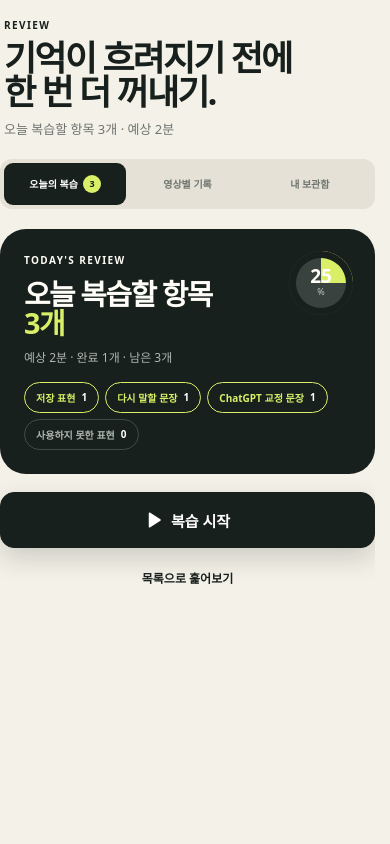
Scenario: Editing a saved item › keeps the editor open and reports the error when saving fails
The width and height of the screenshot is (390, 844).
expect the button "복습 시작" is shown: met, box [0, 492, 375, 548]
Click the tab "내 보관함": (310, 184) [249, 163, 371, 205]
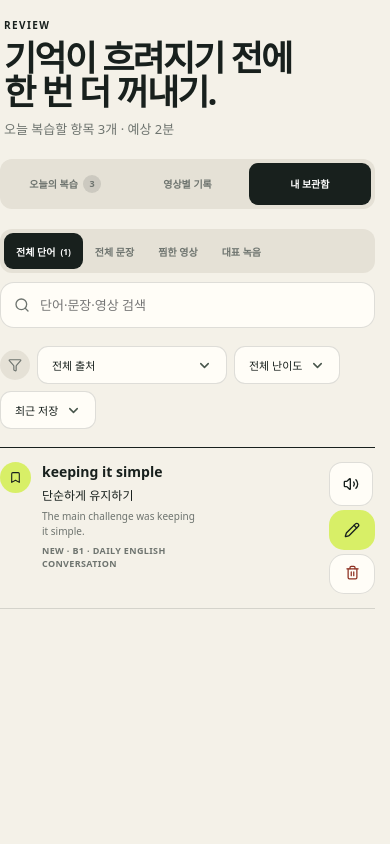
Click the button named "keeping it simple 수정": (352, 530) [329, 510, 375, 550]
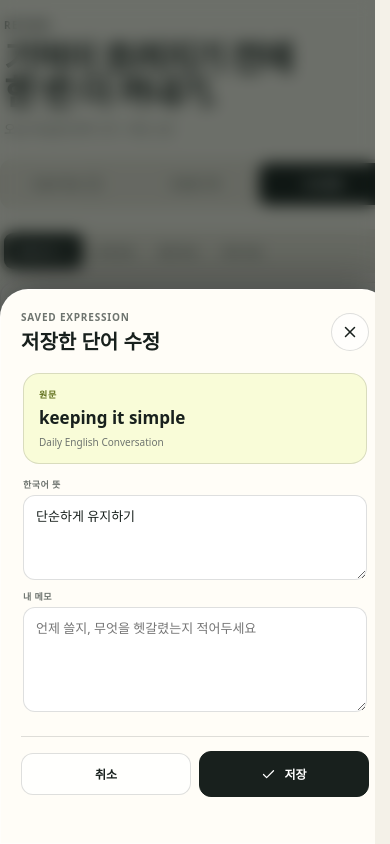
Click the button "저장": (284, 774) [199, 751, 369, 797]
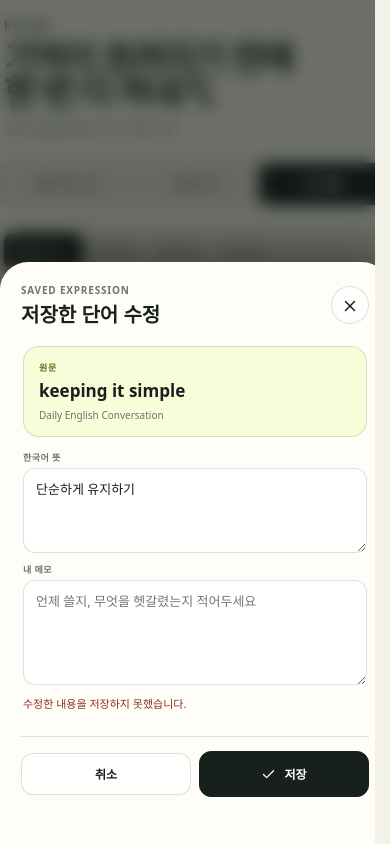
expect the text box named "keeping it simple 한국어 뜻" is shown: met, box [23, 469, 367, 553]
expect the message reads "수정한 내용을 저장하지 못했습니다.": met, box [23, 696, 186, 710]
